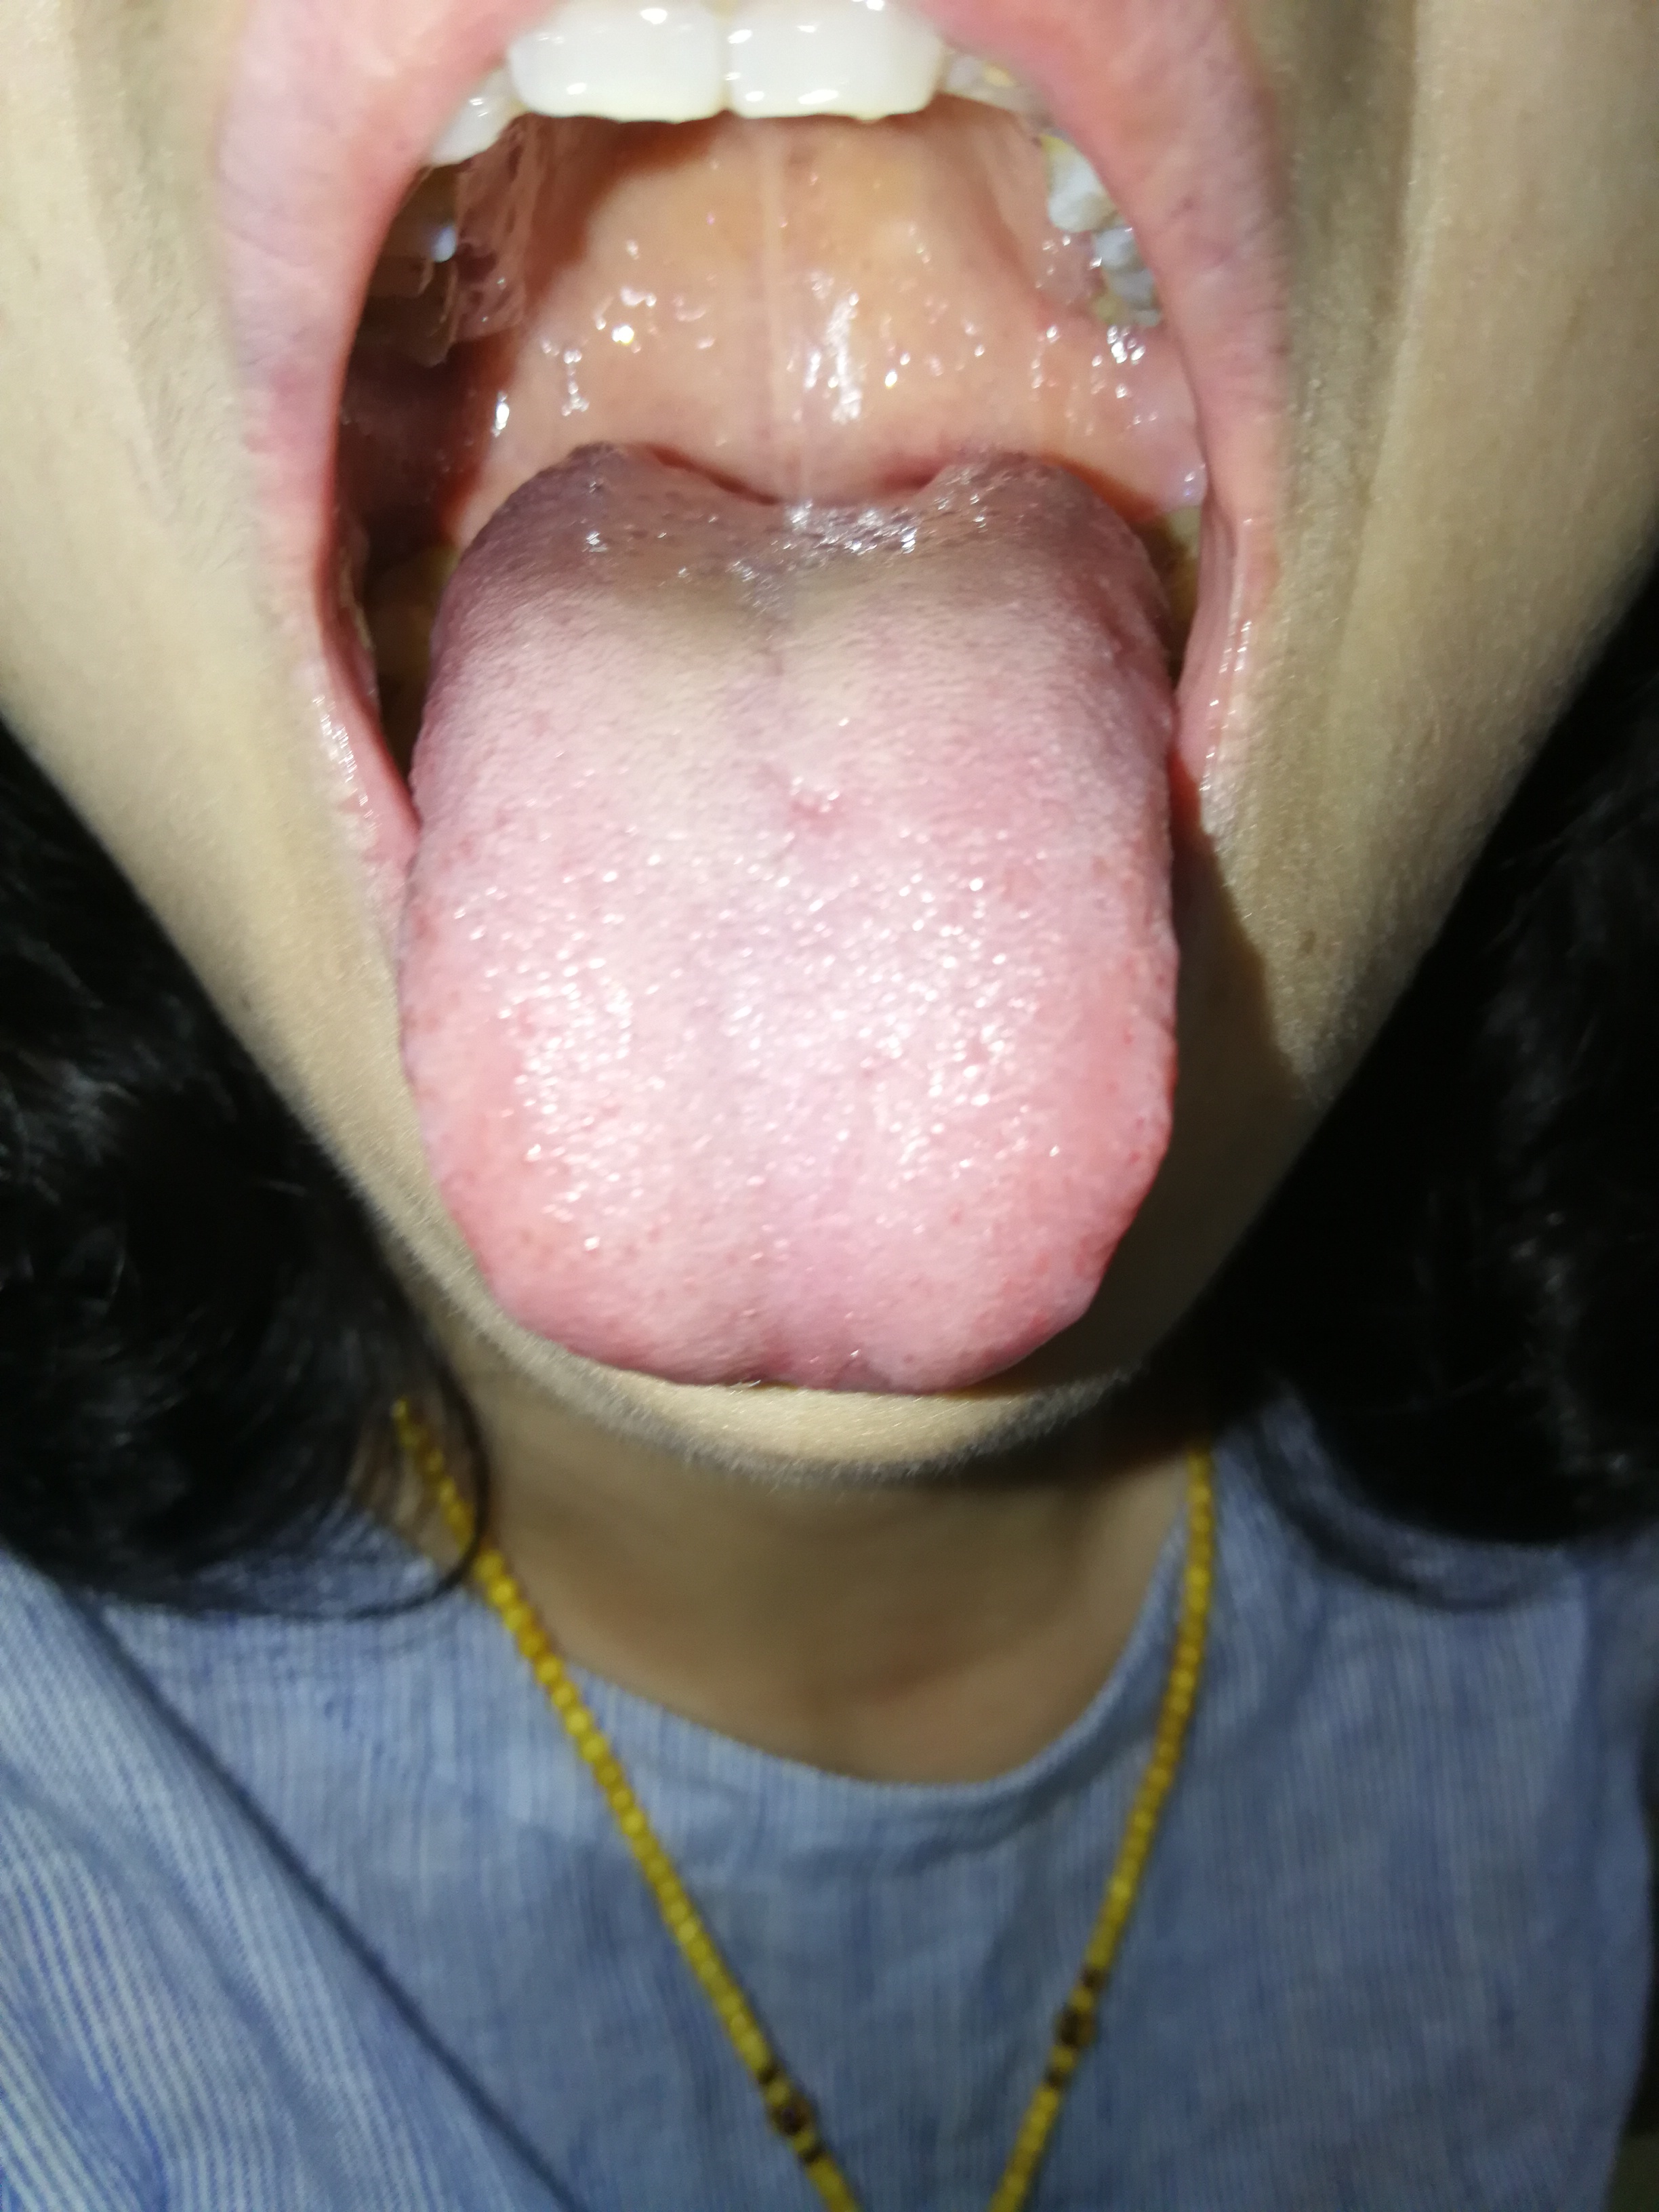tongue: (391, 430, 1188, 1410)
